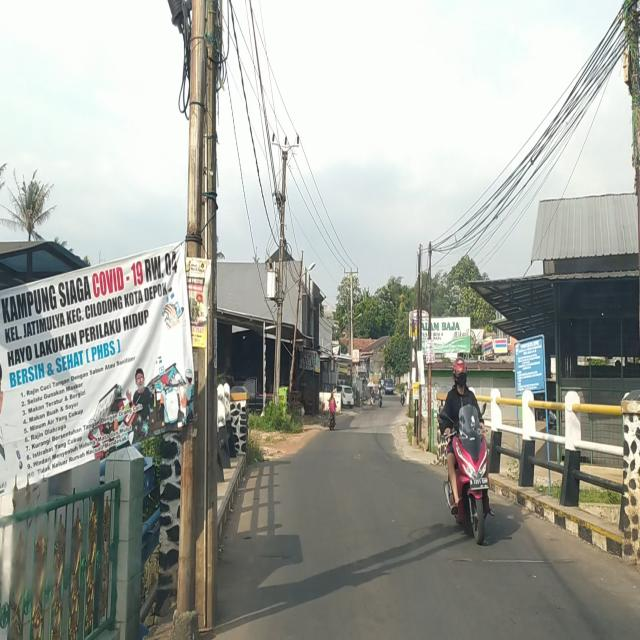Sewer Cover: (447, 554, 572, 566)
